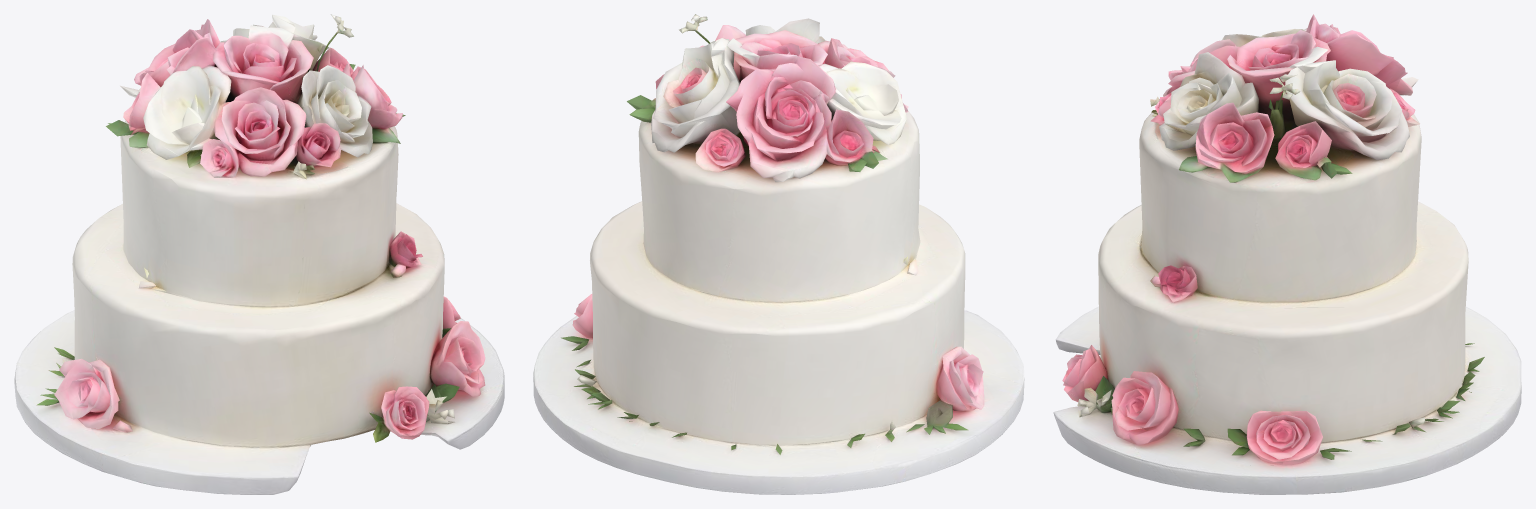
Rendered from tort.glb.
3 renders of one model, left to right at view 1: azimuth 30°, elevation 25°; view 2: azimuth 150°, elevation 25°; view 3: azimuth 270°, elevation 25°, orthographic.
Visible parts, largest first — view 1: model; view 2: model; view 3: model.
Boxes of the visible parts, left/top/right/bottom form: model: left=14, top=14, right=504, bottom=494; model: left=533, top=14, right=1024, bottom=494; model: left=1053, top=14, right=1521, bottom=494.
Size of the model in its own units: 1.9 by 1.53 by 1.81.
1 material, 1 textured.
